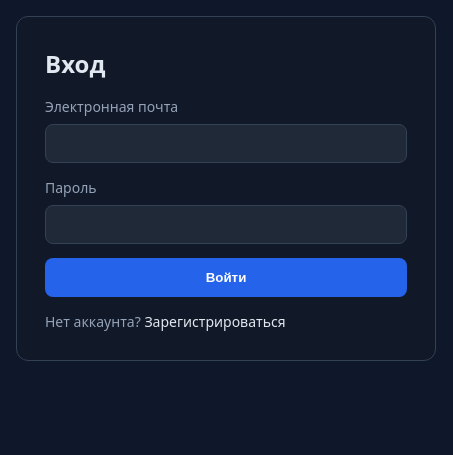
Scenario: <LoginForm /> › shows network-friendly error on offline
Type "x@example.com" into the field labelled "Электронная почта" at (226, 143), box [45,124,407,163]
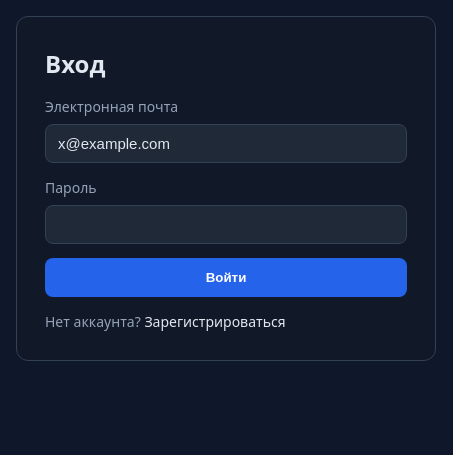
Type "whatever" into the password field labelled "Пароль" at (226, 224), box [45,205,407,244]
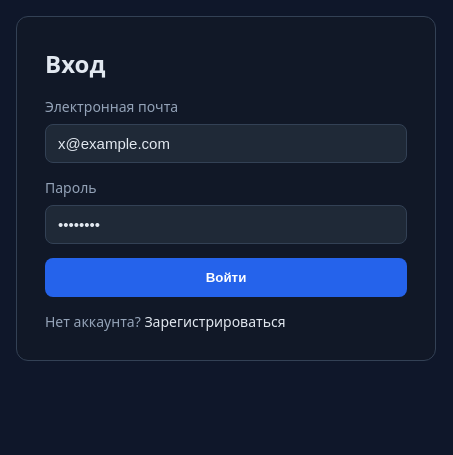
Submit the form from the button "Войти", box [45,258,407,297]
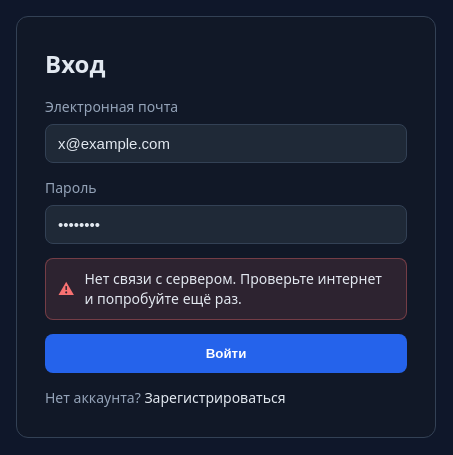
Check: the message shows "Нет связи с сервером", box [84,269,382,308]
